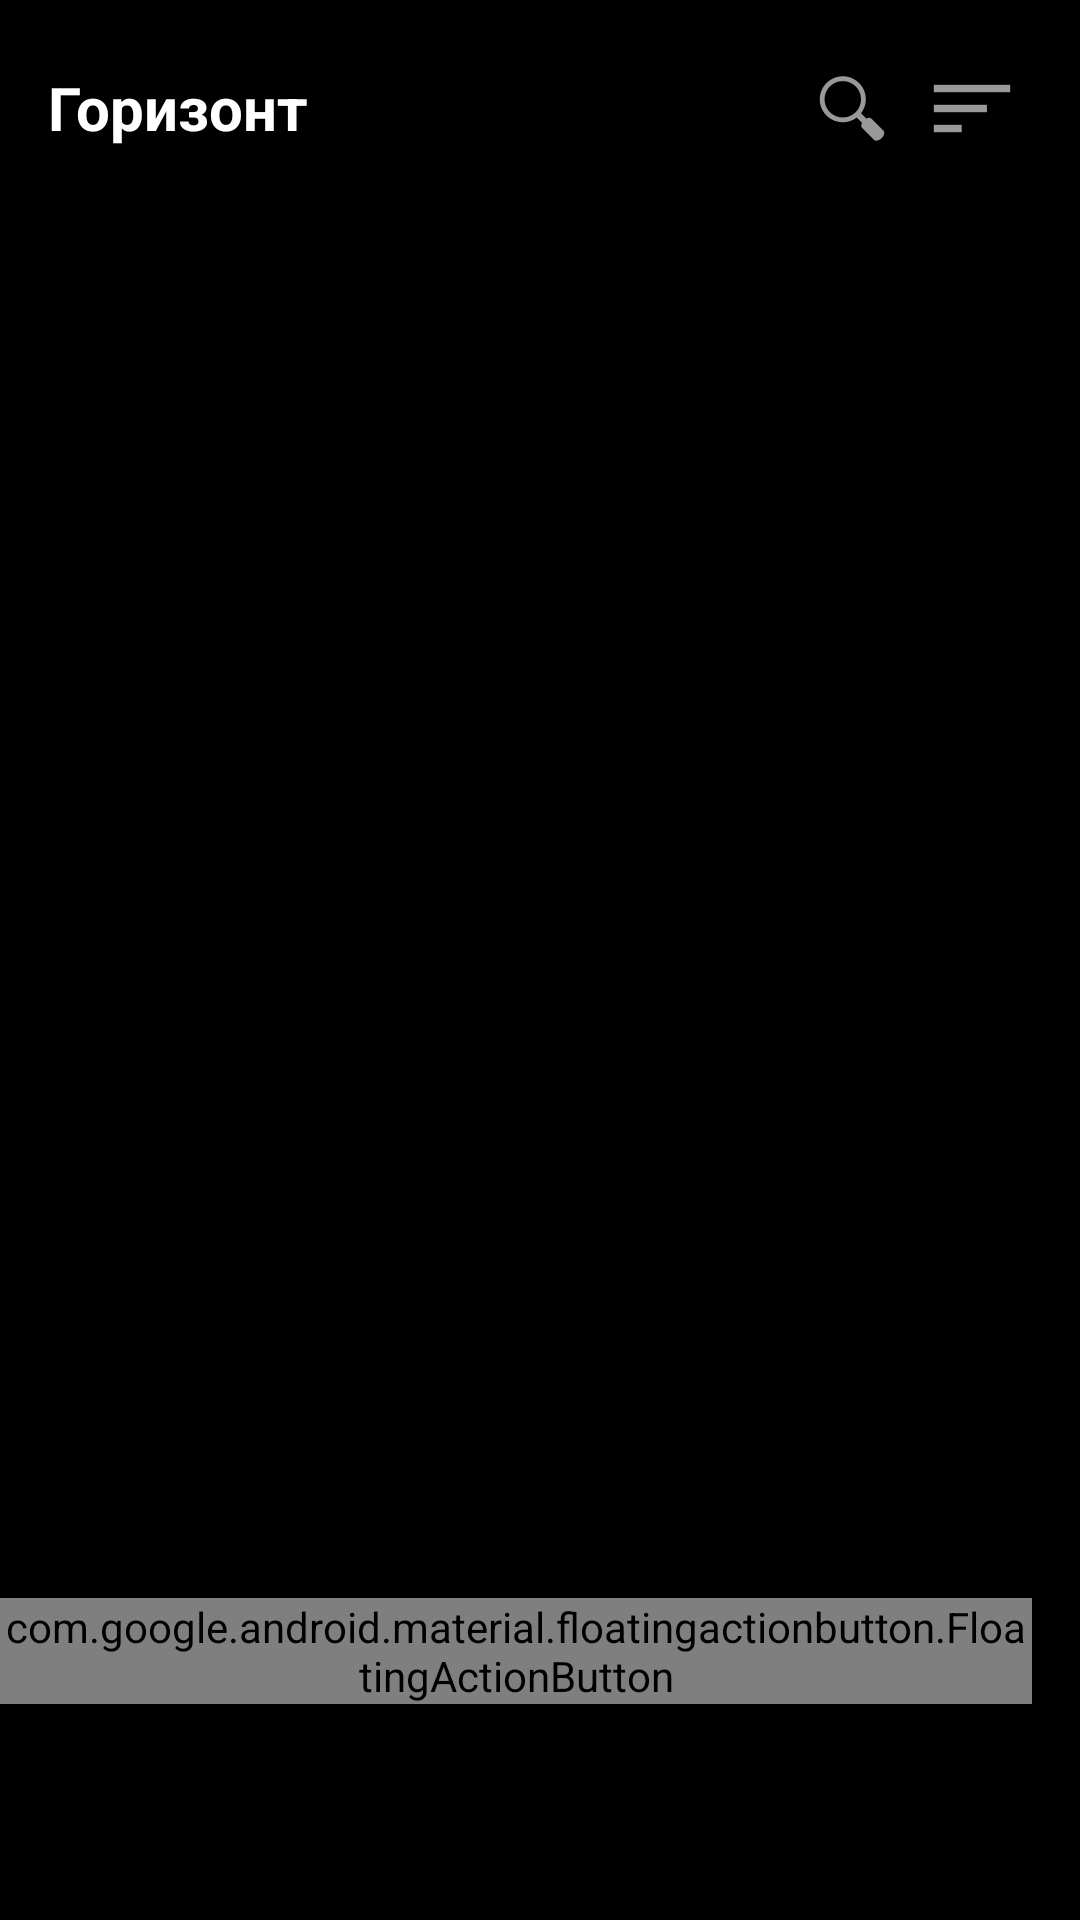

Where icons sit on this 1080px×1920px app screen, as (x1, y1, x2, y2):
Поиск: (819, 76, 885, 141)
Сортировка: (933, 84, 1011, 133)
